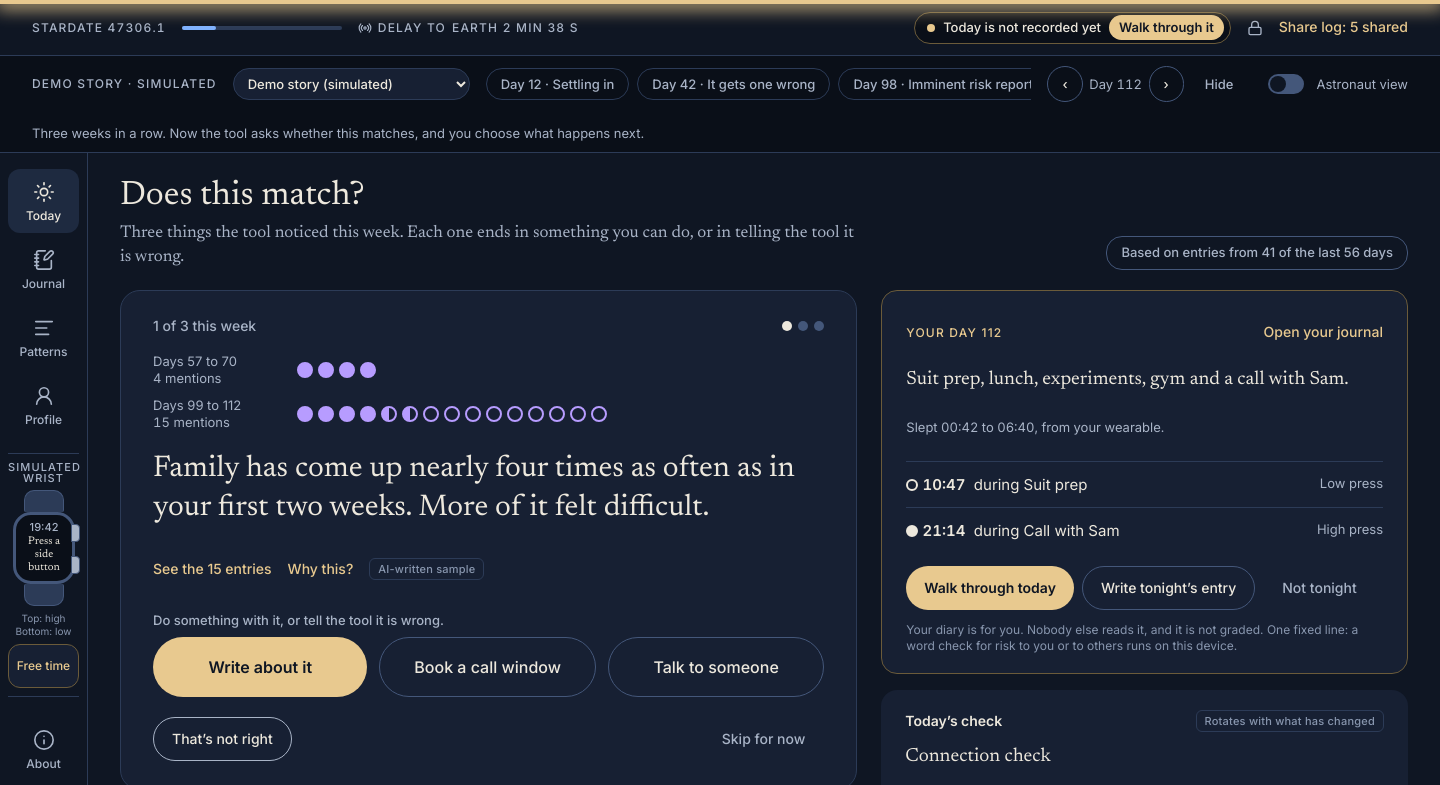
Test: shows only notes addressed to the flight surgeon, never the diary or notes to others
Click the switch named "Flight surgeon view" at (1286, 84), box [1268, 74, 1304, 94]
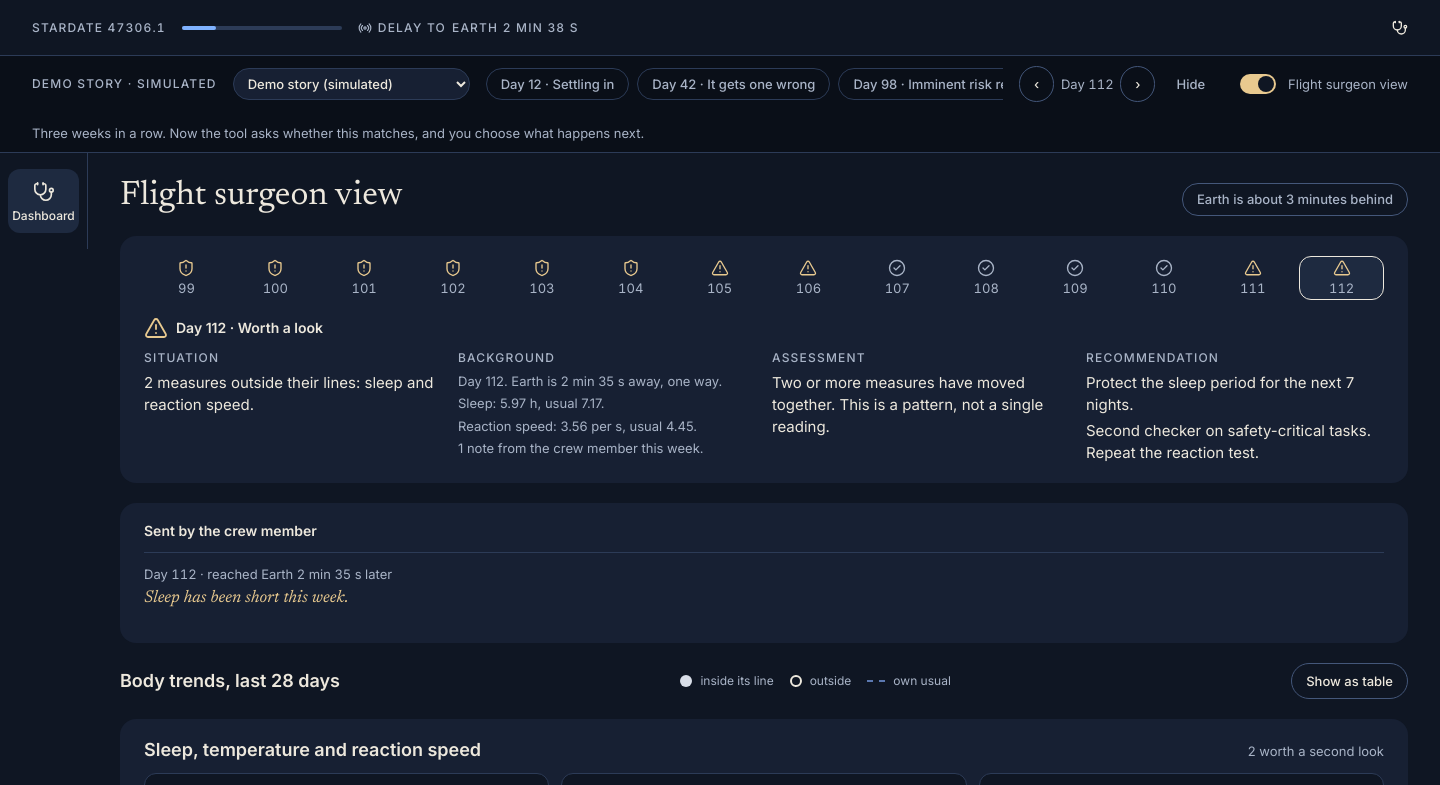
Check: the text "Sleep has been short this week." is shown, box [144, 590, 348, 607]
